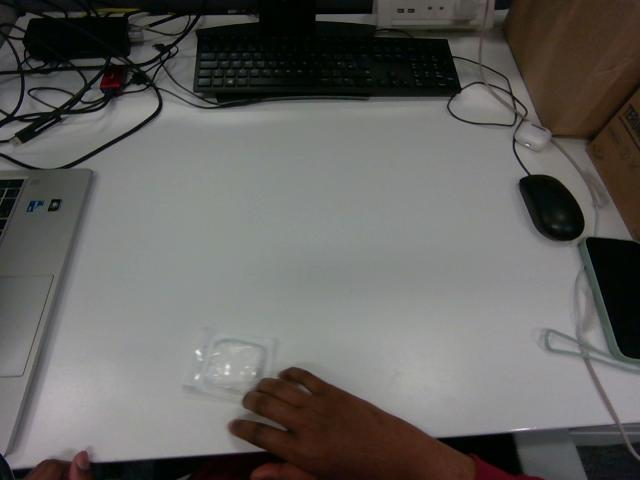gauze: (185, 329, 274, 397)
